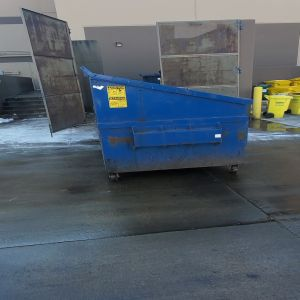Dumpster: (94, 80, 252, 180)
